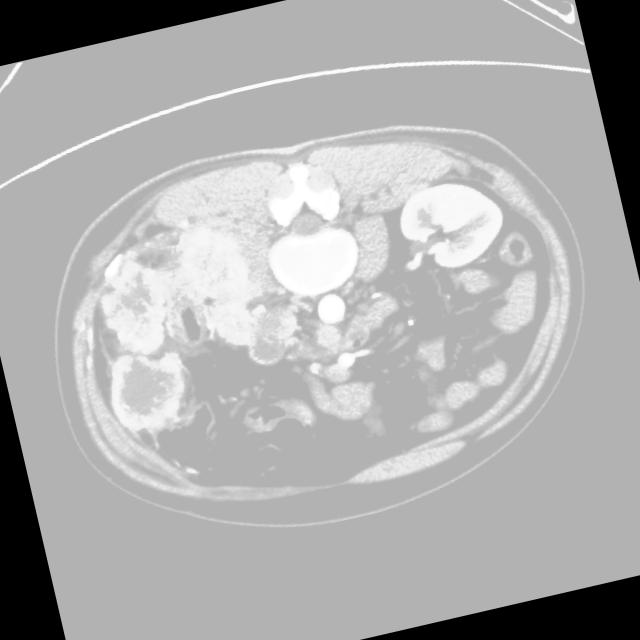TUMOR: (73, 129, 593, 470)
